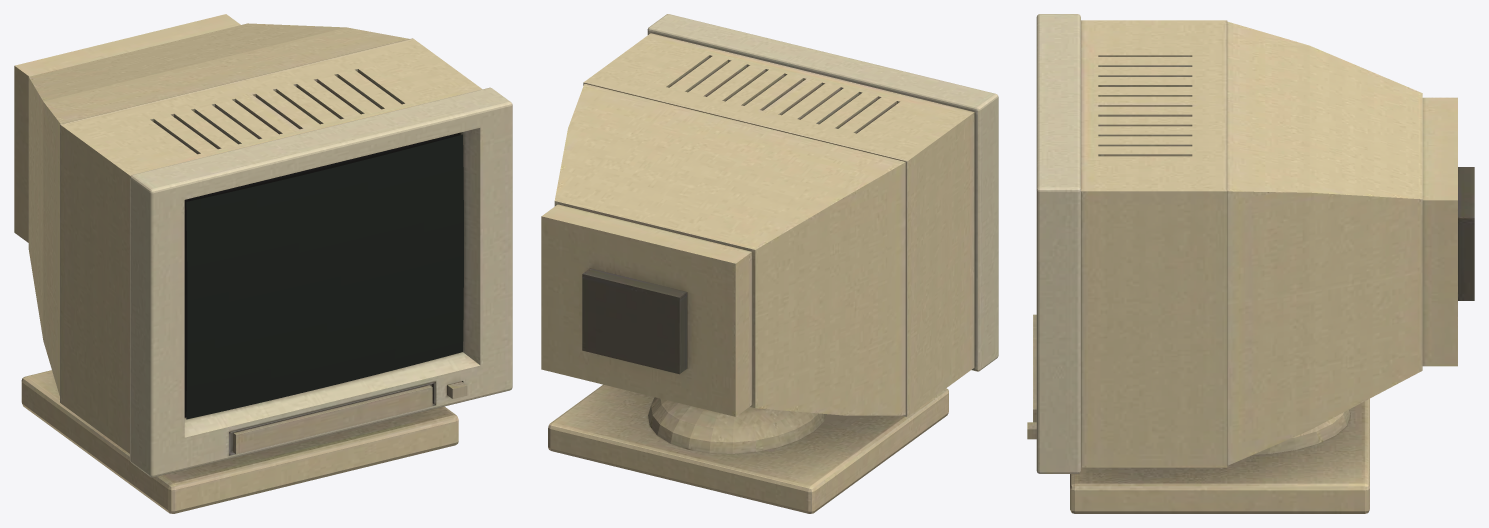
The model's file is crt-c.glb.
3 views of the same model, side by side, from view 1: azimuth 30°, elevation 25°; view 2: azimuth 150°, elevation 25°; view 3: azimuth 270°, elevation 25° (orthographic). The views are drawn at different scales.
Visible parts, largest first — view 1: case-baked, glass; view 2: case-baked; view 3: case-baked.
Boxes of the visible parts, x1,y1,x2,y2 form: case-baked: (14, 14, 512, 513); glass: (186, 134, 463, 419); case-baked: (541, 14, 998, 513); case-baked: (1027, 14, 1474, 513).
Bounding box in the file's own units: 0.375 × 0.3555 × 0.4035.
Materials: 2 (1 with a texture image).
